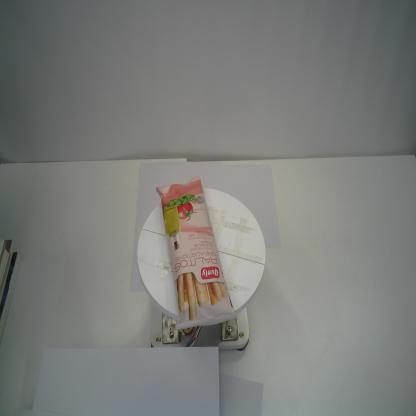Dessert: (156, 174, 236, 332)
